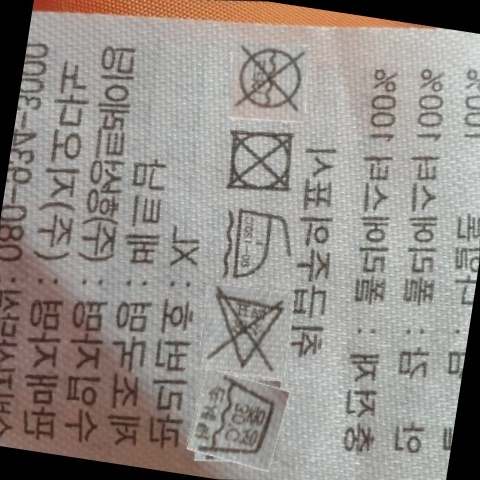DN_dry_clean: (226, 39, 312, 118)
DN_tumble_dry: (218, 121, 301, 199)
hand_wash: (185, 370, 284, 469)
iron_low: (214, 198, 295, 290)
non_chlorine_bleach: (198, 284, 284, 375)
